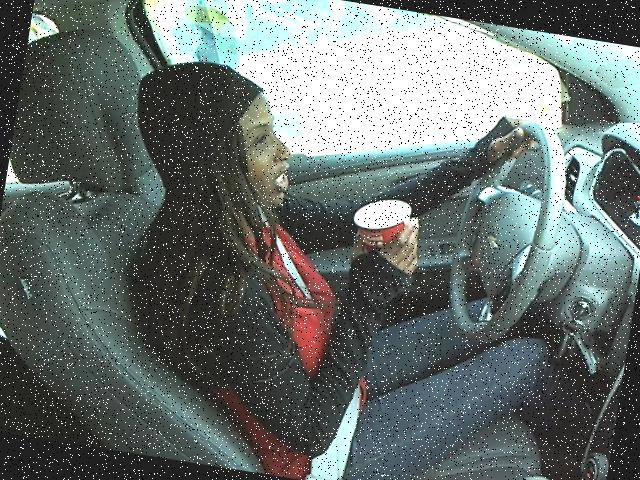c4 - Drinking: (81, 22, 590, 479)
